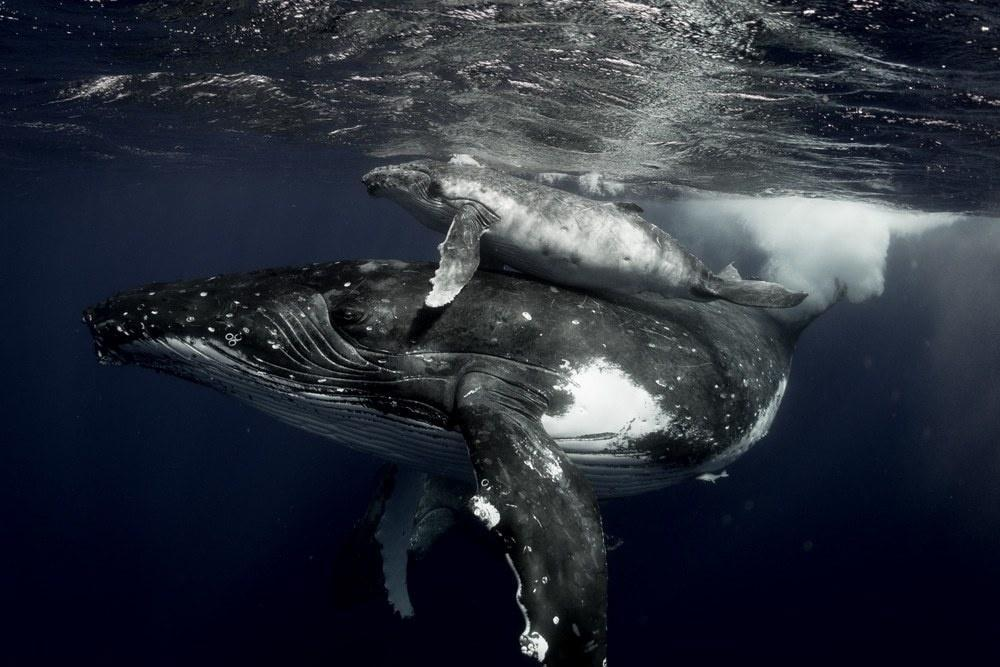fish: (83, 263, 857, 649), (360, 158, 822, 317)
